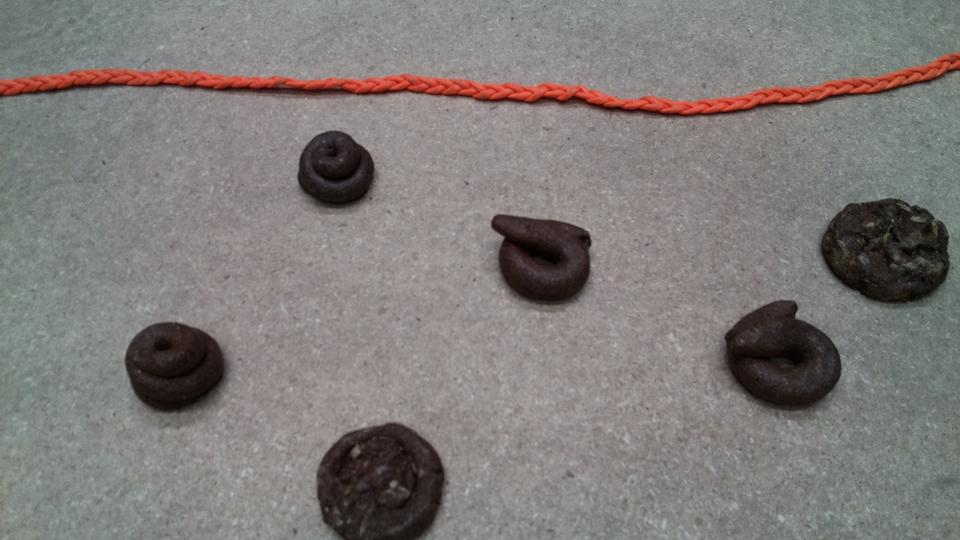poop: (314, 420, 448, 540), (815, 195, 953, 310), (721, 294, 845, 414), (489, 213, 597, 311), (122, 317, 230, 415), (294, 127, 378, 213)
rope: (1, 45, 958, 122)
